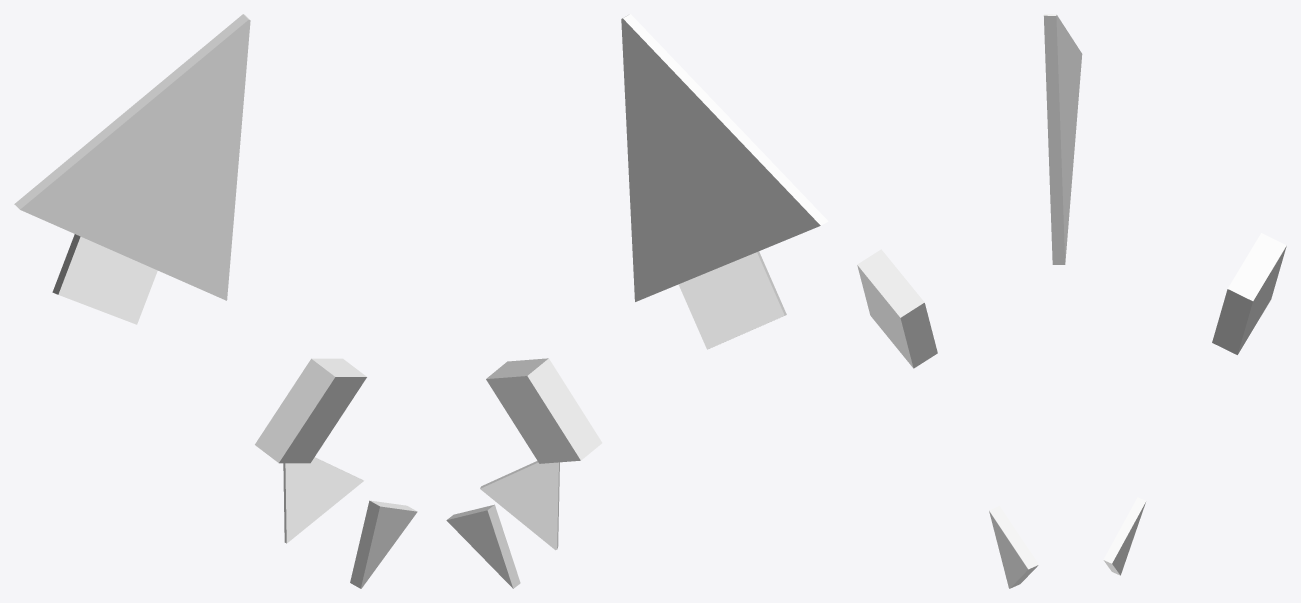
Rendered from dragonbite.obj.
3 renders of one model, left to right at view 1: azimuth 30°, elevation 25°; view 2: azimuth 150°, elevation 25°; view 3: azimuth 270°, elevation 25°, orthographic. The views are drawn at different scales.
Visible parts, largest first — view 1: 立方体.005, 立方体.003, 立方体.001, 立方体.007, 立方体.006; view 2: 立方体.005, 立方体.001, 立方体.003, 立方体.006, 立方体.007; view 3: 立方体.005, 立方体.003, 立方体.001, 立方体.006, 立方体.007.
Boxes of the visible parts, <box> form: 立方体.005: <box>14,14,250,300</box>; 立方体.003: <box>255,358,366,463</box>; 立方体.001: <box>52,234,157,324</box>; 立方体.007: <box>283,457,363,543</box>; 立方体.006: <box>350,500,417,588</box>; 立方体.005: <box>621,14,828,301</box>; 立方体.001: <box>486,358,602,463</box>; 立方体.003: <box>678,251,786,349</box>; 立方体.006: <box>480,461,559,550</box>; 立方体.007: <box>446,504,520,588</box>; 立方体.005: <box>1044,14,1082,264</box>; 立方体.003: <box>857,249,937,368</box>; 立方体.001: <box>1212,233,1286,354</box>; 立方体.006: <box>989,505,1038,588</box>; 立方体.007: <box>1103,497,1146,575</box>.
Bounding box in the file's own units: 0.5842 × 0.8607 × 0.6289.
5 materials, 5 textured.
